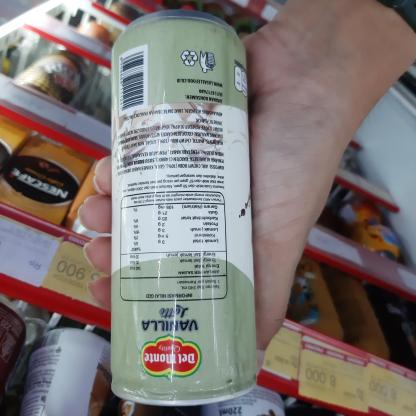alumunium_can: (96, 0, 264, 416)
